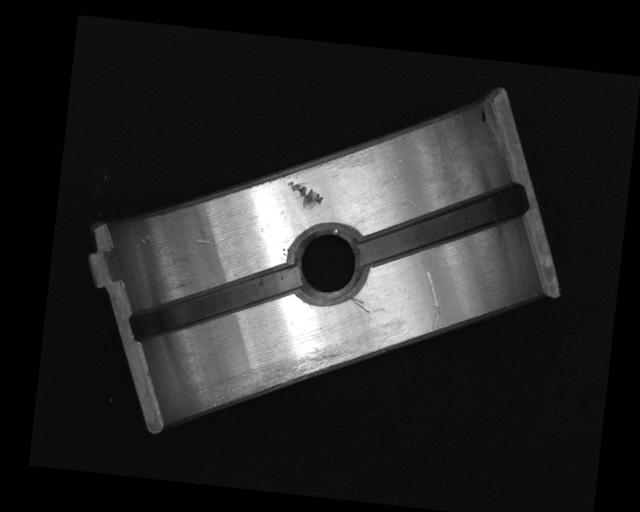blot: (479, 107, 487, 123)
bruise: (284, 181, 324, 211), (193, 236, 216, 248)
gap: (358, 170, 528, 282), (127, 251, 299, 356)
hole: (288, 218, 371, 308)
nick: (411, 260, 445, 334), (348, 296, 371, 313)
scratch: (208, 324, 372, 425)
